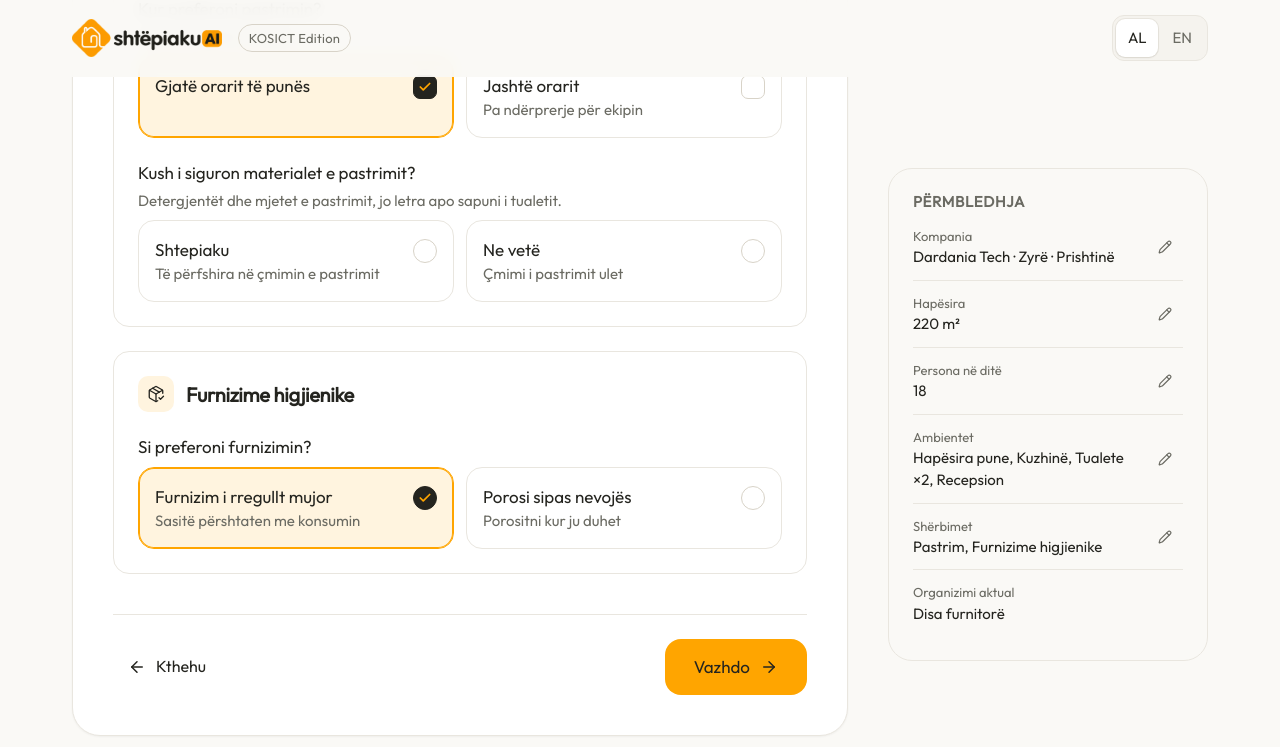
Scenario: cleaning materials › asks who supplies materials and prices the client option lower
(page scrolled)
expect the text "Kush i siguron materialet e pastrimit?" is shown: met, box [138,162,416,185]
# Required: continuing without an answer shows an error.
Click the button "Vazhdo" at (736, 667), box [665,639,807,695]
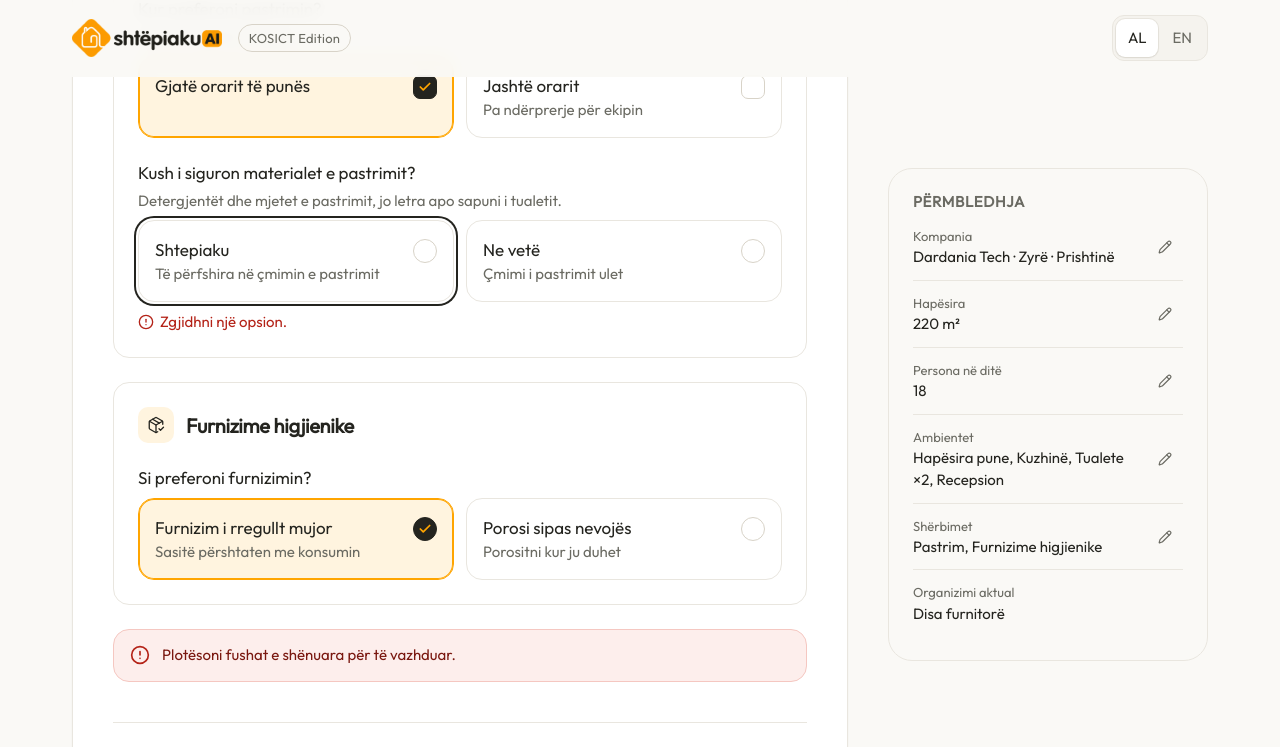
Click the radio button labelled "Ne vetë Çmimi i pastrimit ulet" at (512, 250), box [466,220,782,302]
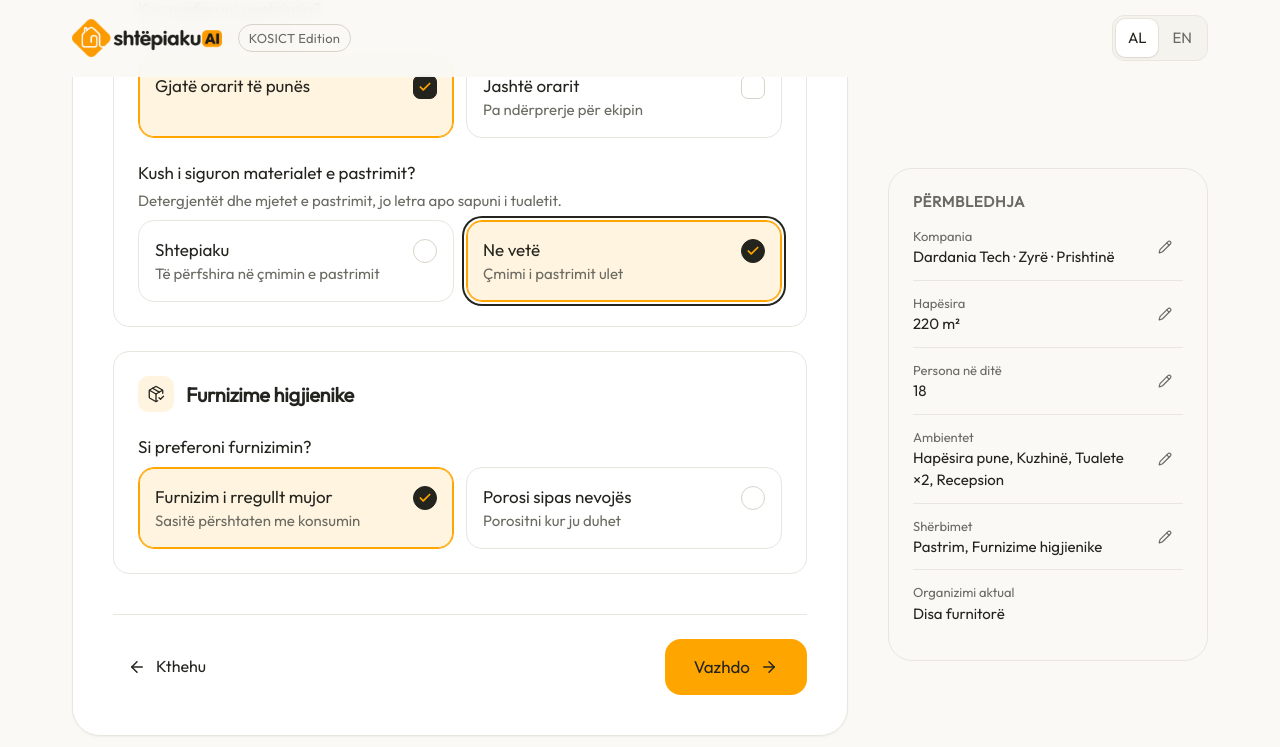
Click the button "Vazhdo" at (736, 667), box [665,639,807,695]
(page scrolled)
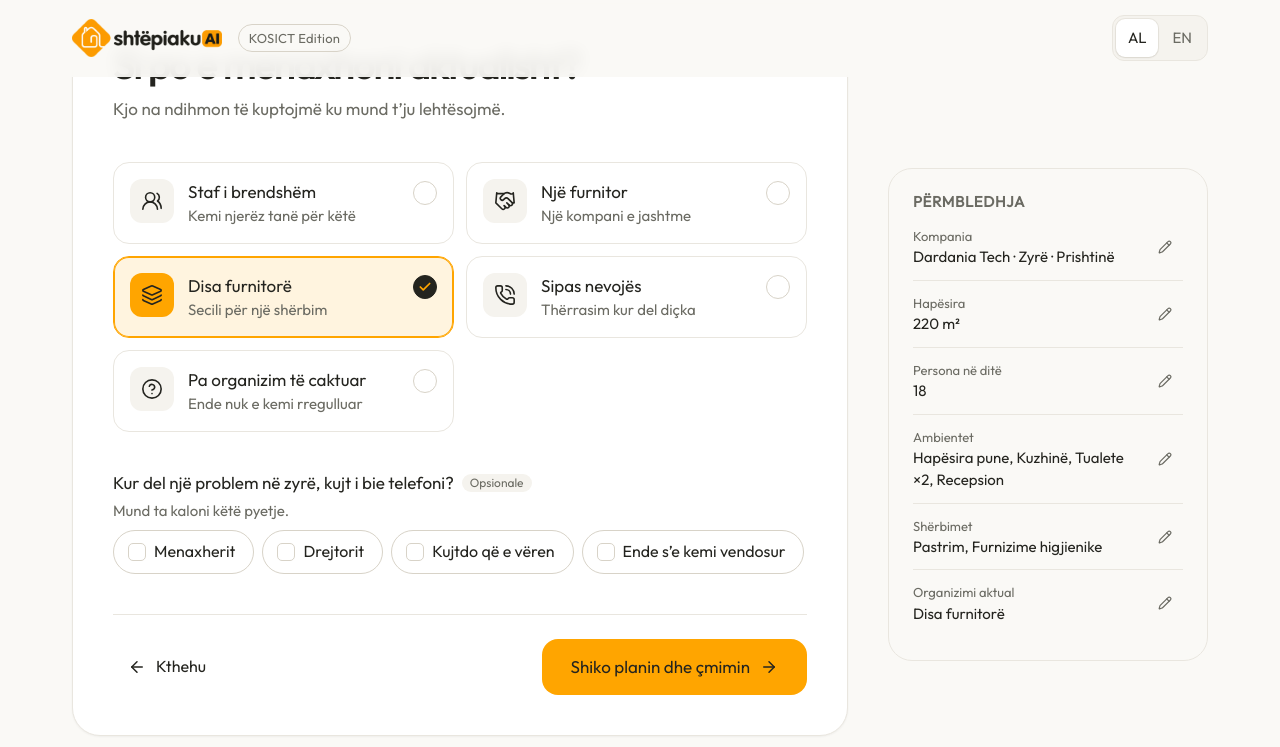
Click the button "Shiko planin dhe çmimin" at (674, 667), box [542,639,807,695]
(page scrolled)
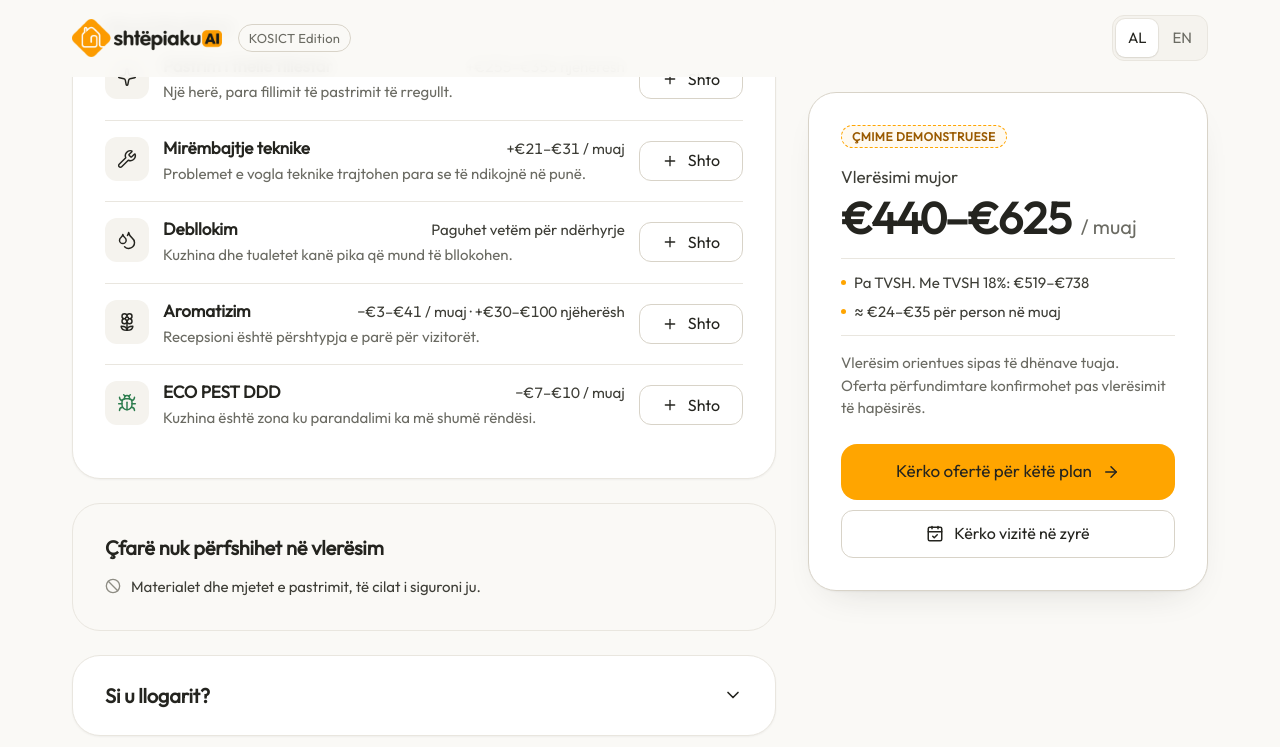
expect the text "Materialet dhe mjetet e pastrimit, të cilat i siguroni ju." is shown: met, box [131,575,481,598]
